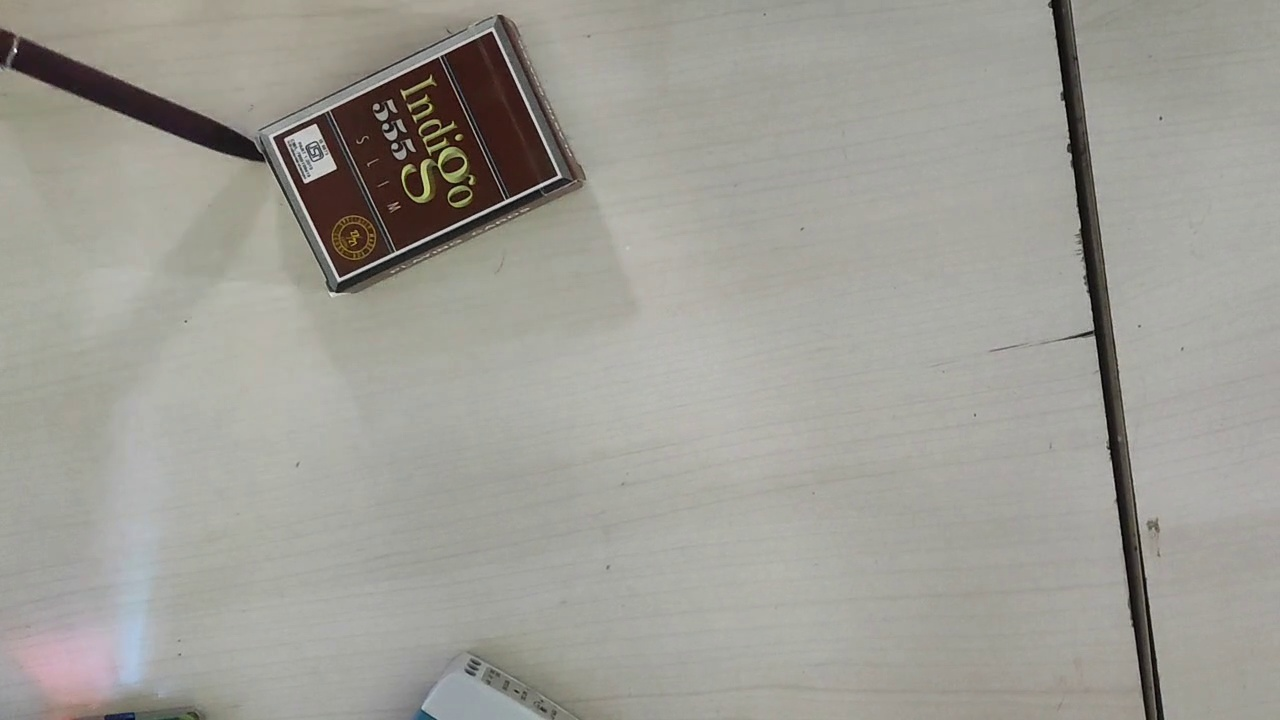BEX: (270, 30, 561, 278)
